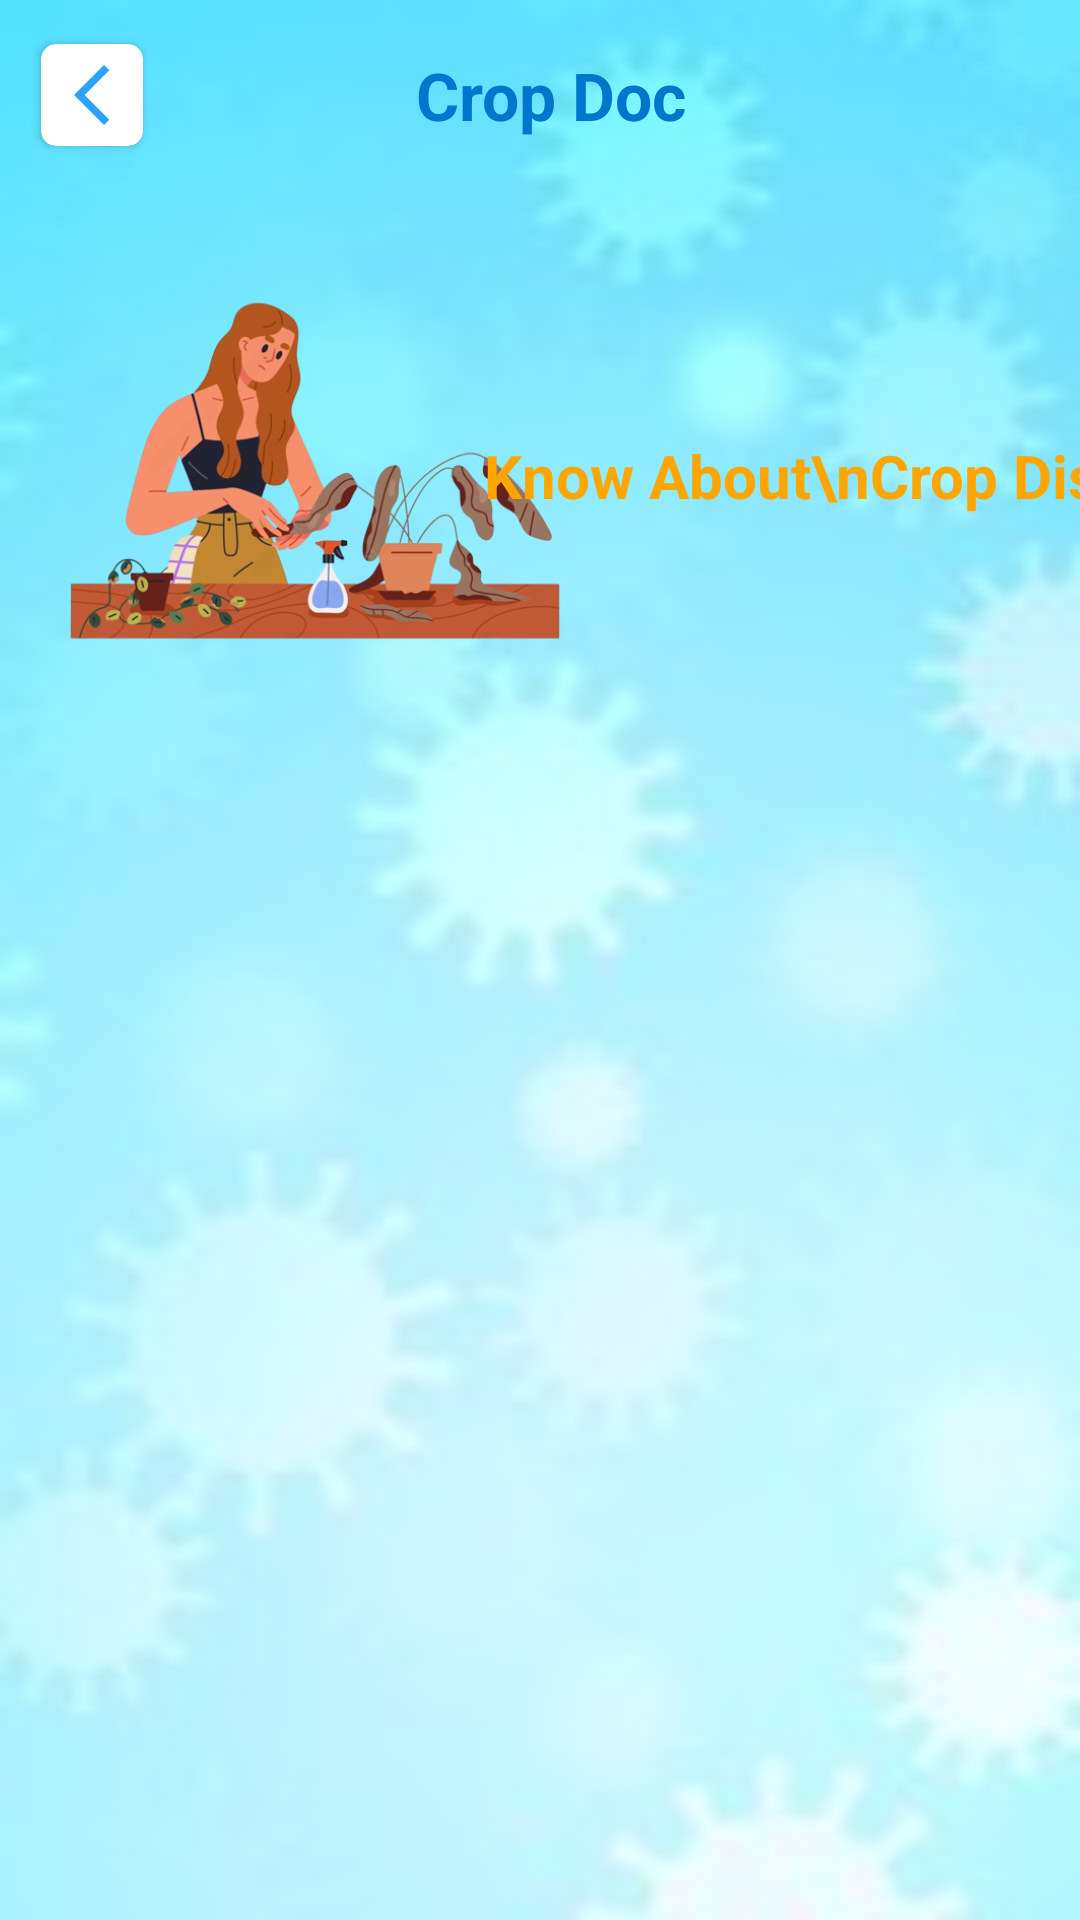

Named icons in this screenshot (1080*1920) and their centers, point (x, y):
arrow back: point (91, 95)
